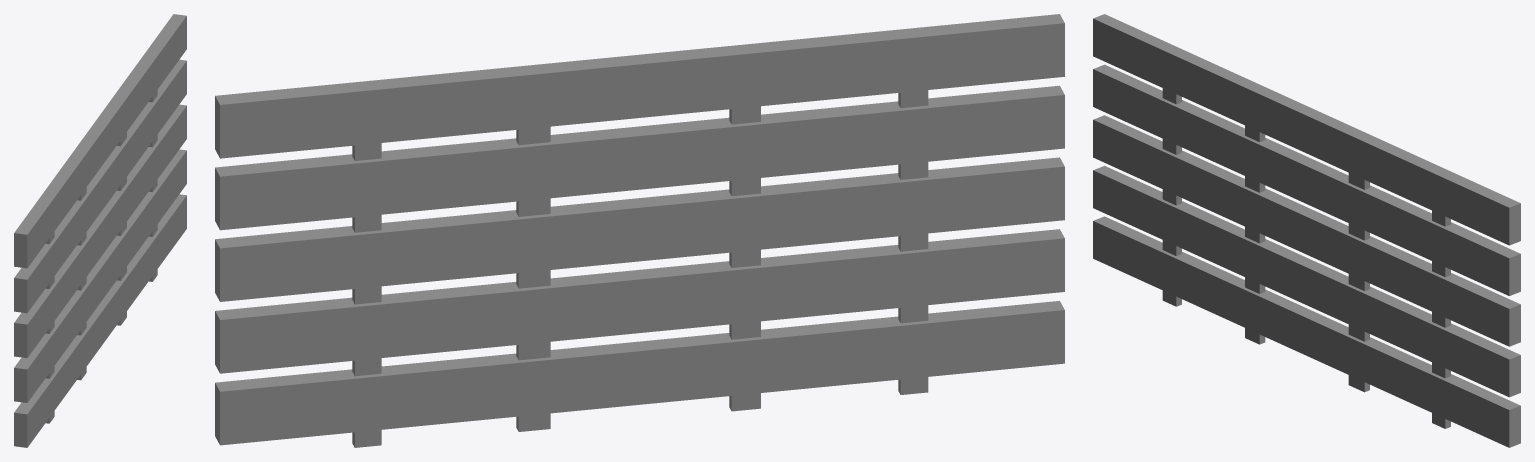
File: Blinds A - 2.fbx
The picture shows the model from 3 angles, left to right: view 1: azimuth 30°, elevation 25°; view 2: azimuth 150°, elevation 25°; view 3: azimuth 270°, elevation 25°; orthographic projection. The views are drawn at different scales.
Visible parts, largest first — view 1: Blinds A - 2; view 2: Blinds A - 2; view 3: Blinds A - 2.
Boxes of the visible parts, x1,y1,x2,y2 form: Blinds A - 2: (14,14,186,447); Blinds A - 2: (215,14,1064,447); Blinds A - 2: (1093,14,1520,447).
Bounding box in the file's own units: 212 × 198 × 129.
